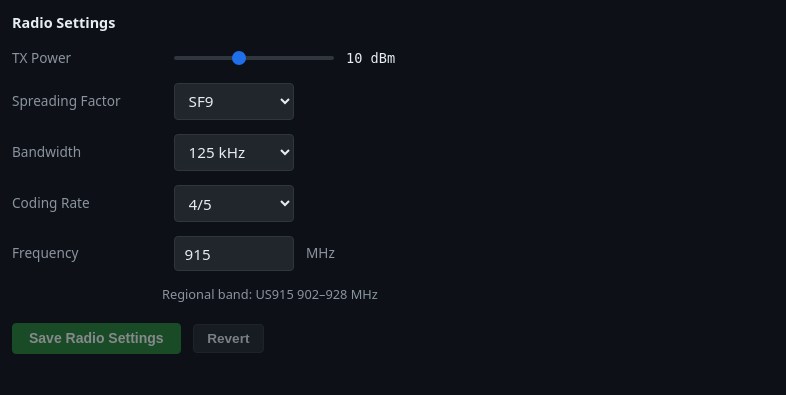
Test: RadioForm frequency guidance › shows out-of-band warning state for frequencies outside known regional ISM bands
The width and height of the screenshot is (786, 395).
Replace the text in the number field named "Frequency in MHz" with "500" at x=234, y=254, box x1=174 y1=236 x2=294 y2=271
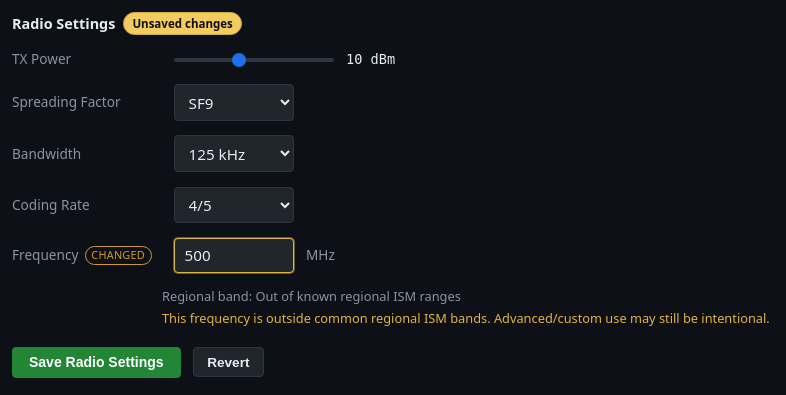
Expected: the text "Regional band: Out of known regional ISM ranges" is shown, x1=162 y1=287 x2=461 y2=305
Expected: the text "outside common regional ISM bands" is shown, x1=162 y1=309 x2=770 y2=327
